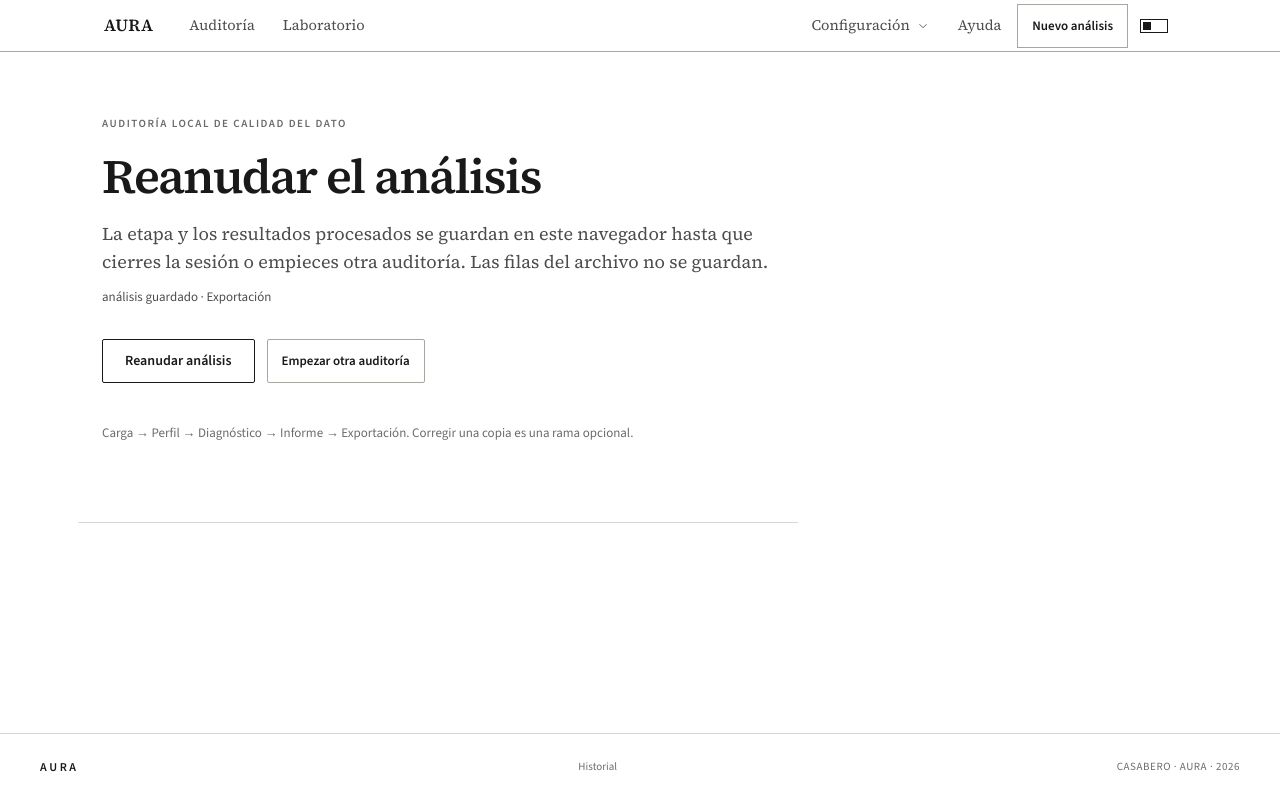
Test: JSON technical export preflight integration › declara con sobriedad que no hubo remediación y conserva todas las descargas principales
What coordinates should you click on to do the following:
click the button "Reanudar análisis"
I would click on:
 (178, 361)
Its box is x1=102 y1=339 x2=255 y2=383.
(page scrolled)
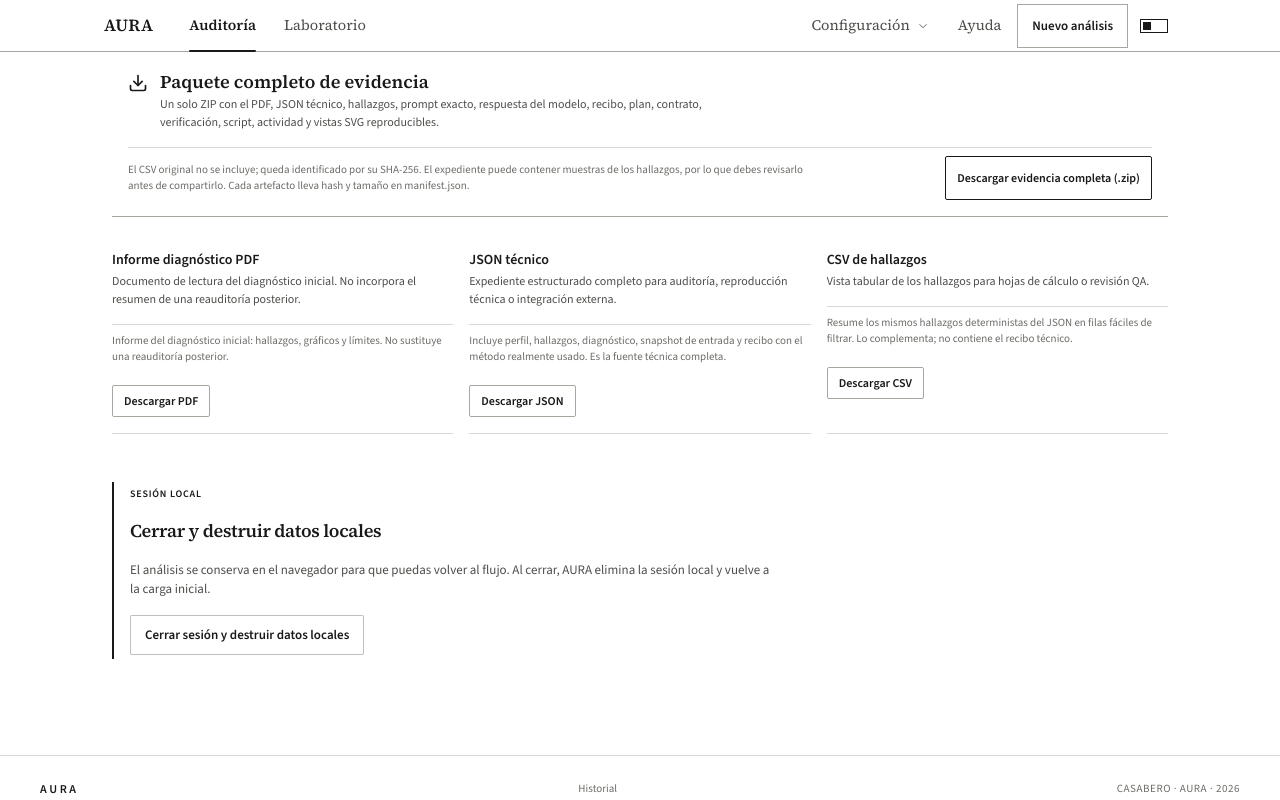
Expected: the button with test id "export-download-evidence-package" is shown, x1=945 y1=156 x2=1152 y2=200
Expected: the button with test id "export-download-pdf" is shown, x1=112 y1=385 x2=210 y2=417
Expected: the button with test id "export-download-json" is shown, x1=469 y1=385 x2=576 y2=417
